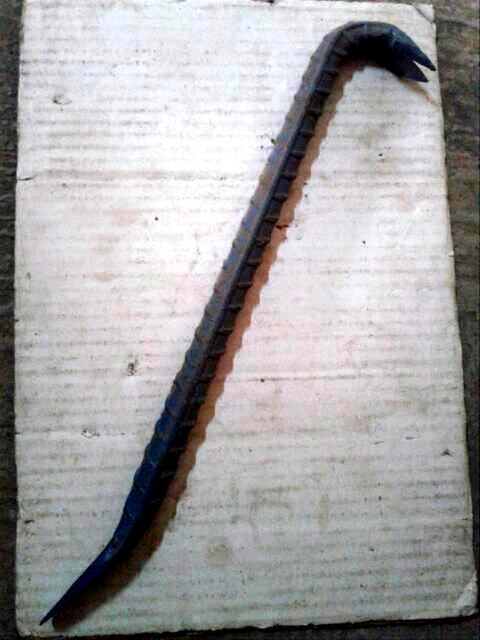crow bar: (35, 20, 429, 628)
